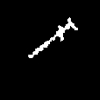double_crochet: (28, 18, 77, 57)
